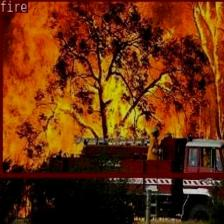fire: (0, 0, 224, 177)
